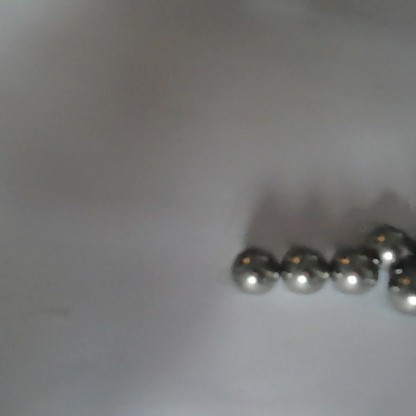ironball: (327, 240, 376, 297), (228, 243, 278, 298), (357, 223, 409, 274), (282, 241, 324, 296), (383, 261, 414, 320)
